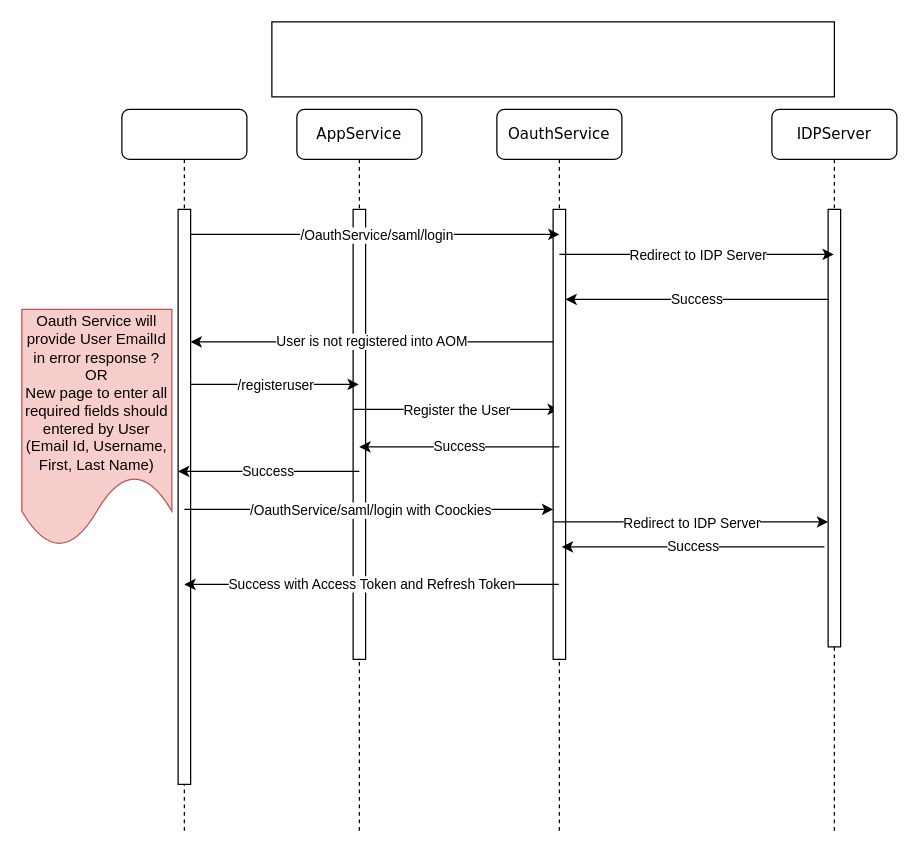
The diagram is 919 pixels wide and 856 high, and some of its shapes have lost their labels. Each missing label, with the centre of its shape:
"AOM" belongs at point 184,471.
"SAML SSO Authentication" belongs at point 552,59.
